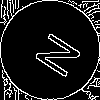N: (25, 25, 83, 80)
